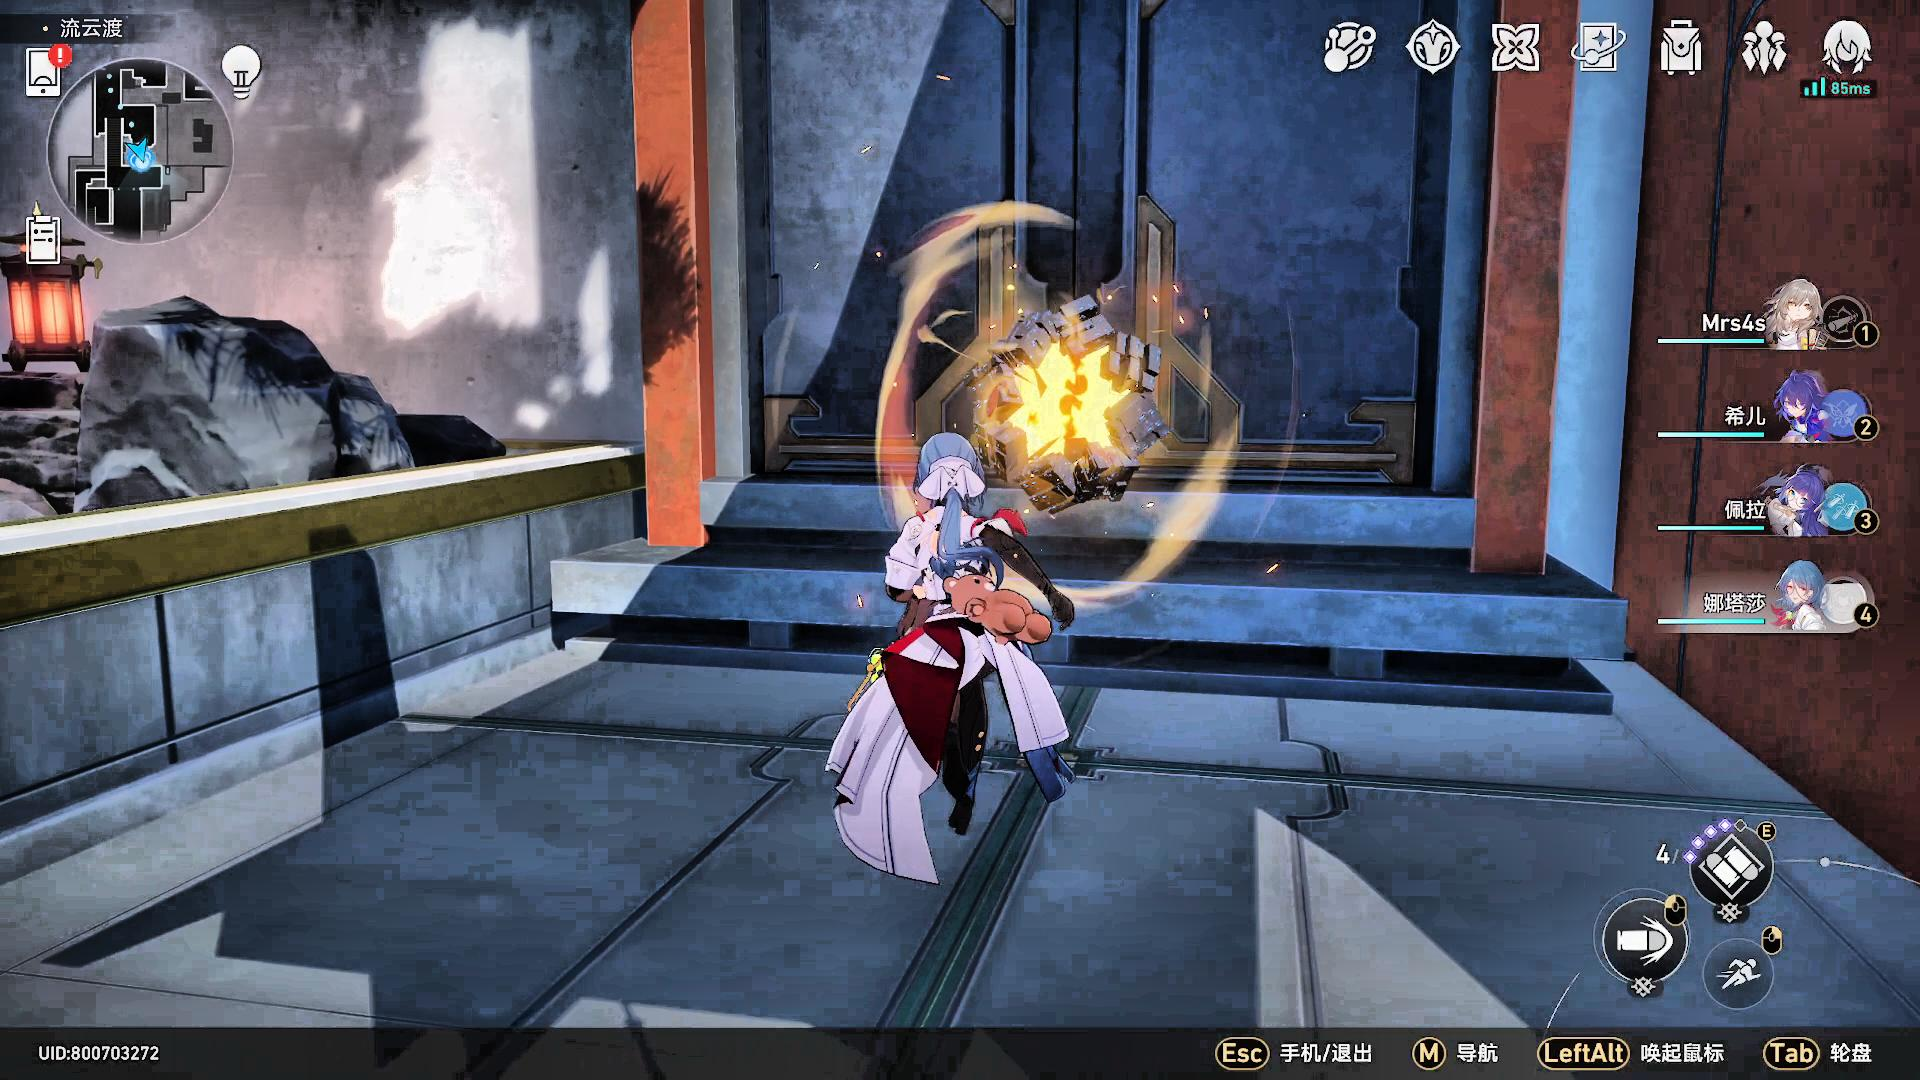Self: (824, 426, 1048, 920)
